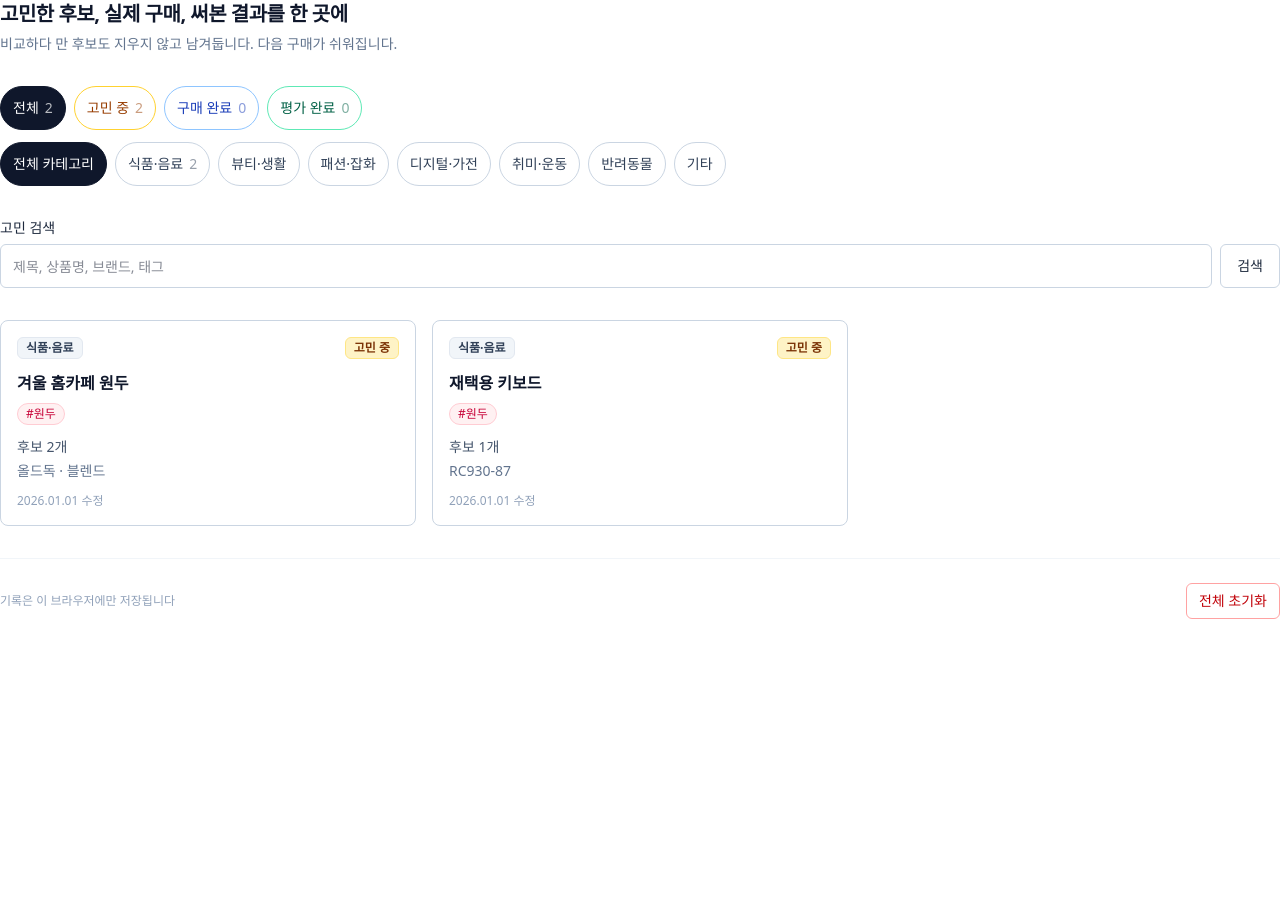
Scenario: 블록 52 — 전체 초기화 › 평가가 없으면 평가 얘기를 하지 않는다
The width and height of the screenshot is (1280, 900).
Step 1. Click the button "전체 초기화" → (1233, 601), box [1186, 583, 1279, 619]
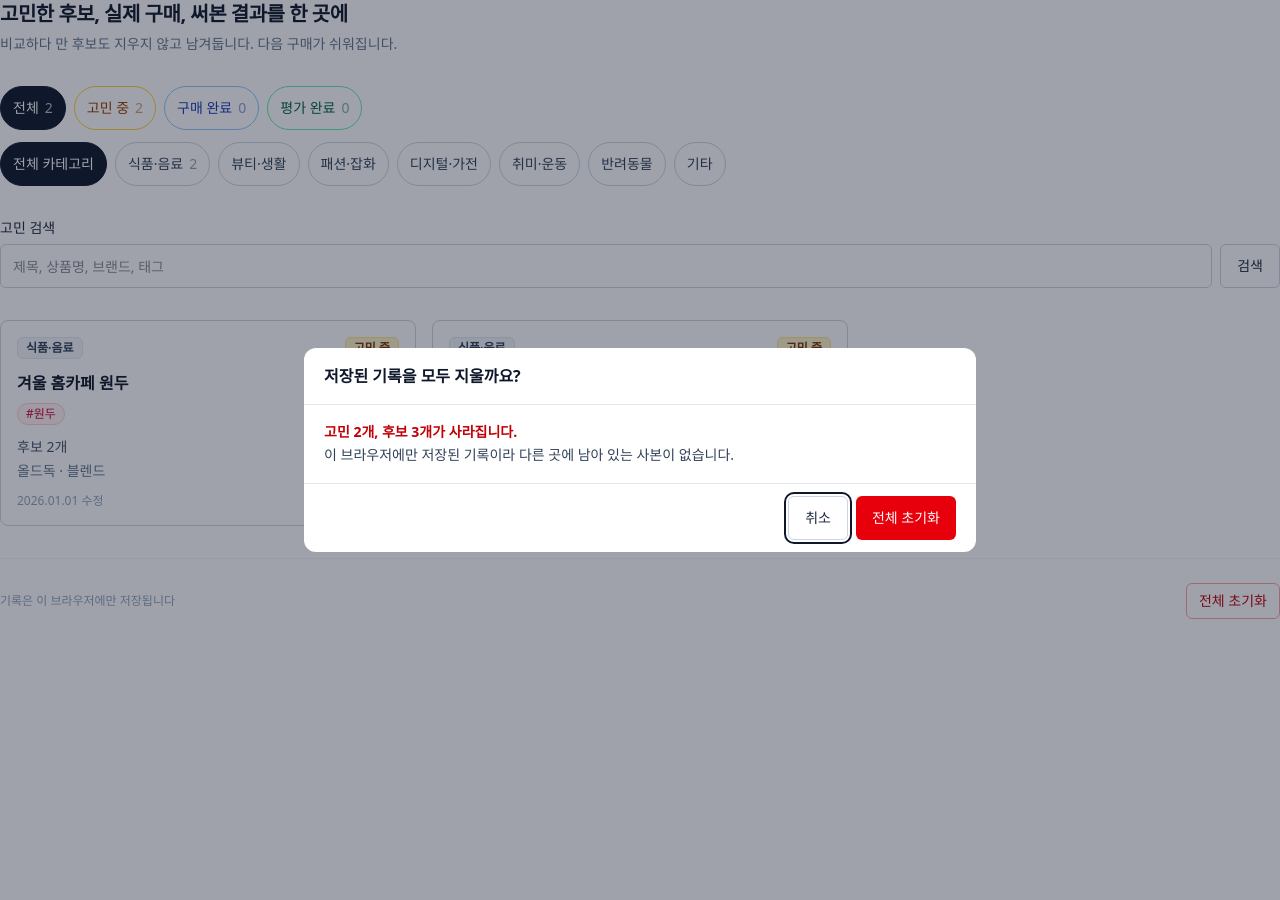
expect the text "고민 2개, 후보 3개가 사라집니다." is shown: met, box [324, 422, 517, 441]
